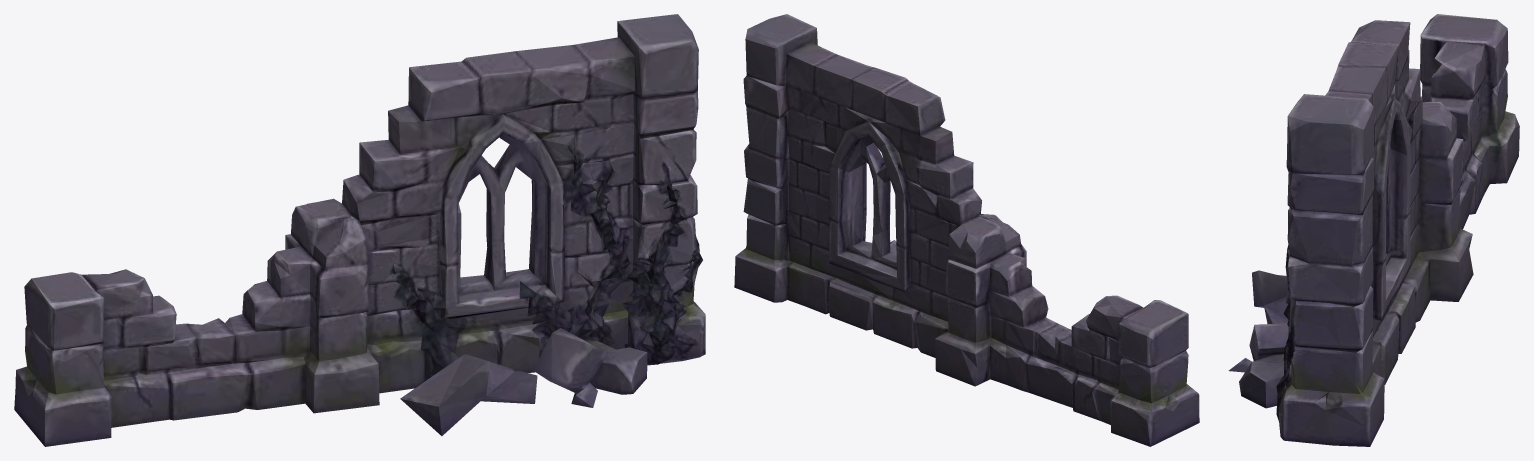
Rendered from oc_ruinwall.glb.
The picture shows the model from 3 angles, left to right: view 1: azimuth 30°, elevation 25°; view 2: azimuth 150°, elevation 25°; view 3: azimuth 270°, elevation 25°; orthographic projection. The views are drawn at different scales.
Parts seen in each view (by area): view 1: W_ruined_wall_haunted; view 2: W_ruined_wall_haunted; view 3: W_ruined_wall_haunted.
Part boxes in pixels (left/top/right/bottom): W_ruined_wall_haunted: left=14, top=14, right=705, bottom=446; W_ruined_wall_haunted: left=734, top=14, right=1199, bottom=446; W_ruined_wall_haunted: left=1228, top=14, right=1519, bottom=446.
Bounding box in the file's own units: 4 × 2.02 × 1.65.
1 material, 1 textured.
